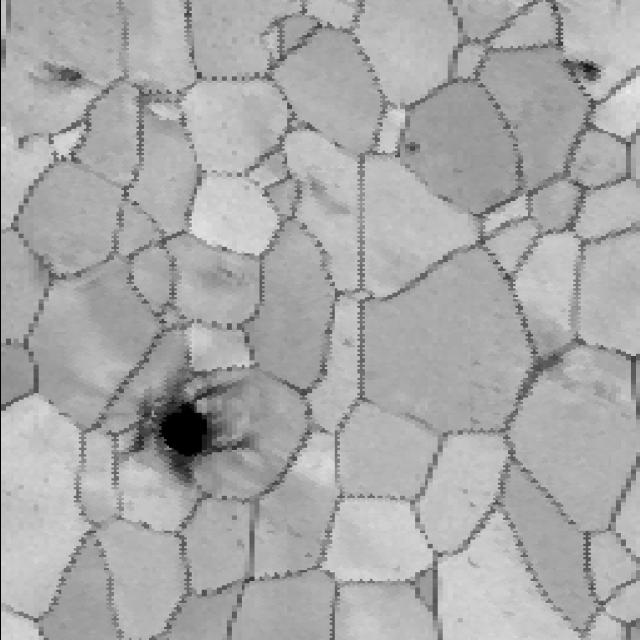good_void: (130, 365, 261, 489), (183, 263, 245, 296), (32, 63, 95, 90), (569, 56, 603, 82), (402, 139, 423, 158), (341, 336, 353, 347), (226, 514, 240, 523)
